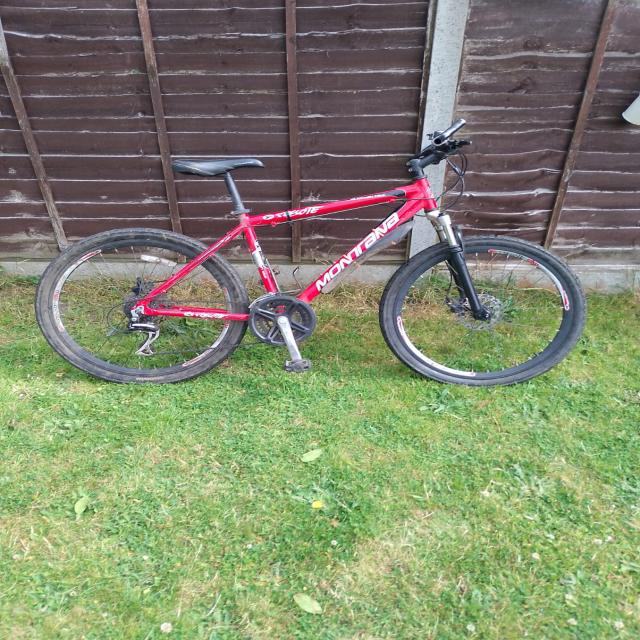bicycle: (48, 111, 601, 401)
